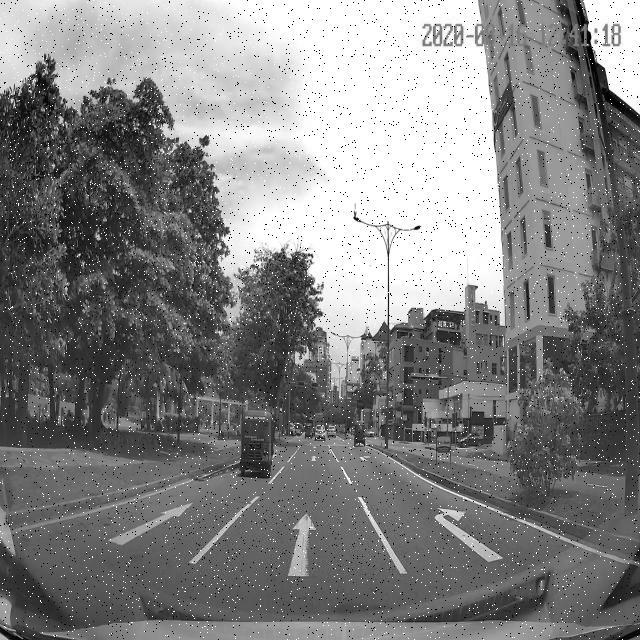forward: (175, 508, 408, 577)
